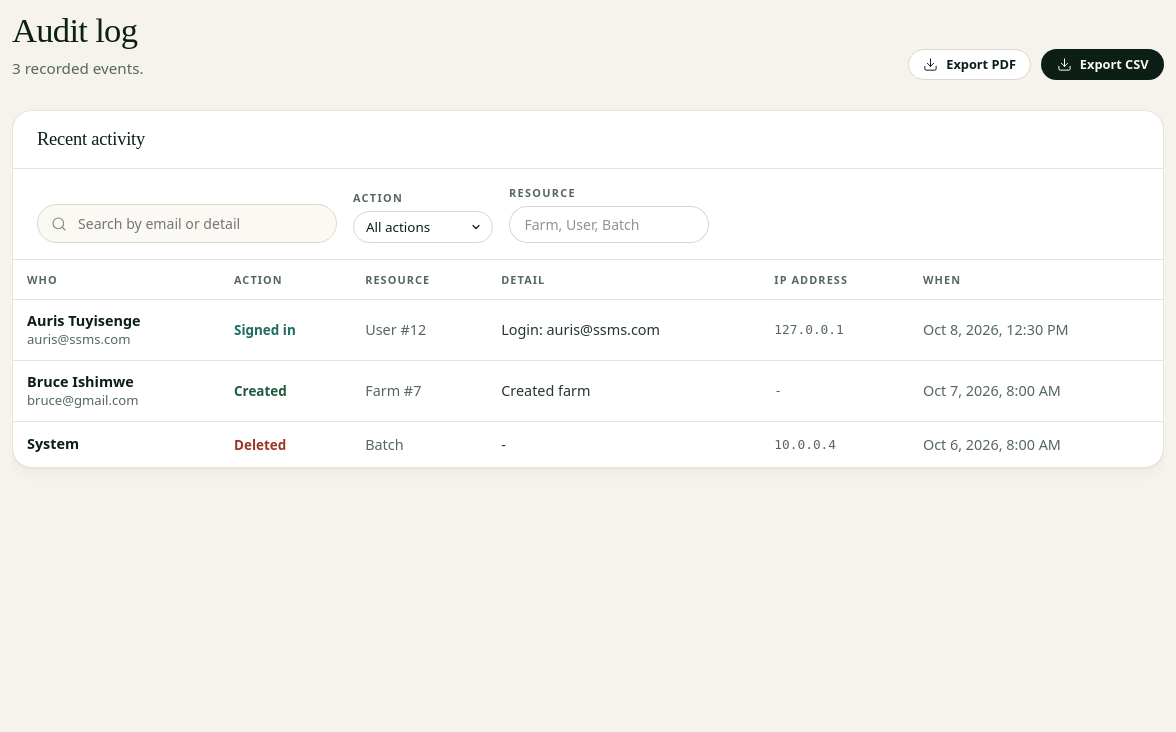
it: Audit log page › downloads the CSV with the current filters and says so
expect the text "Bruce Ishimwe" is shown: met, box left=27, top=372, right=134, bottom=391
Click the button "Export CSV" at coordinates (1103, 65), box left=1041, top=49, right=1164, bottom=80
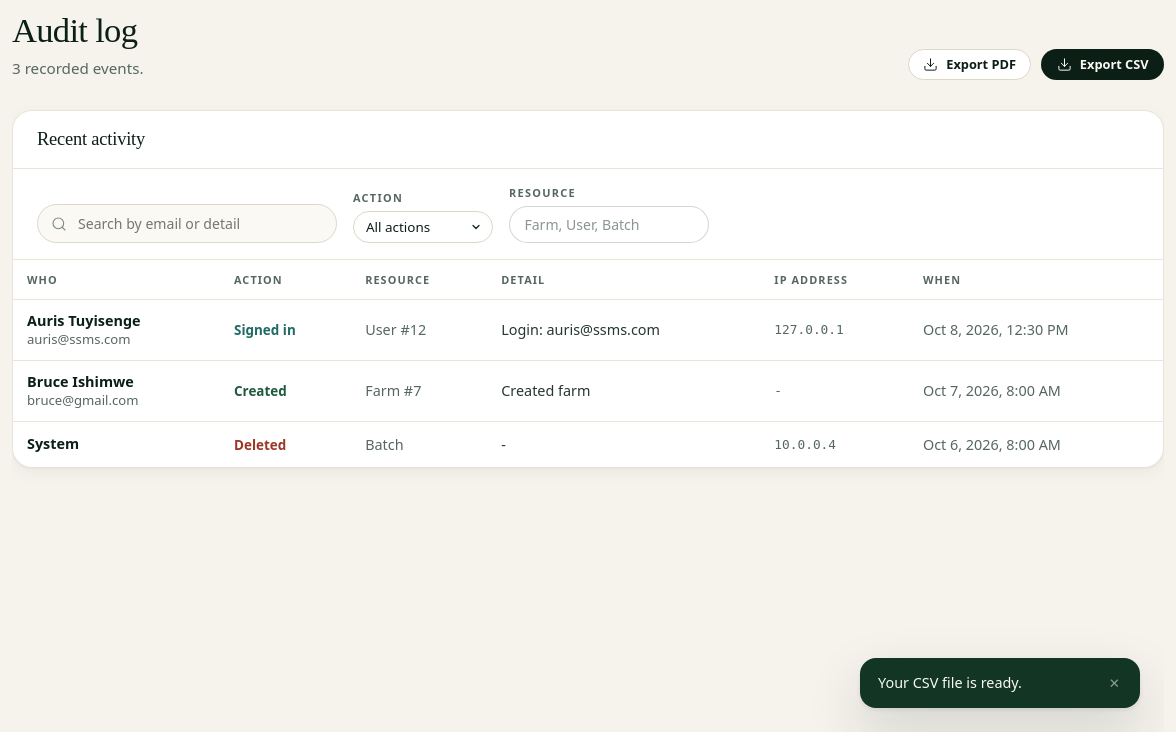
expect the text "Your CSV file is ready." is shown: met, box left=878, top=673, right=1022, bottom=692
